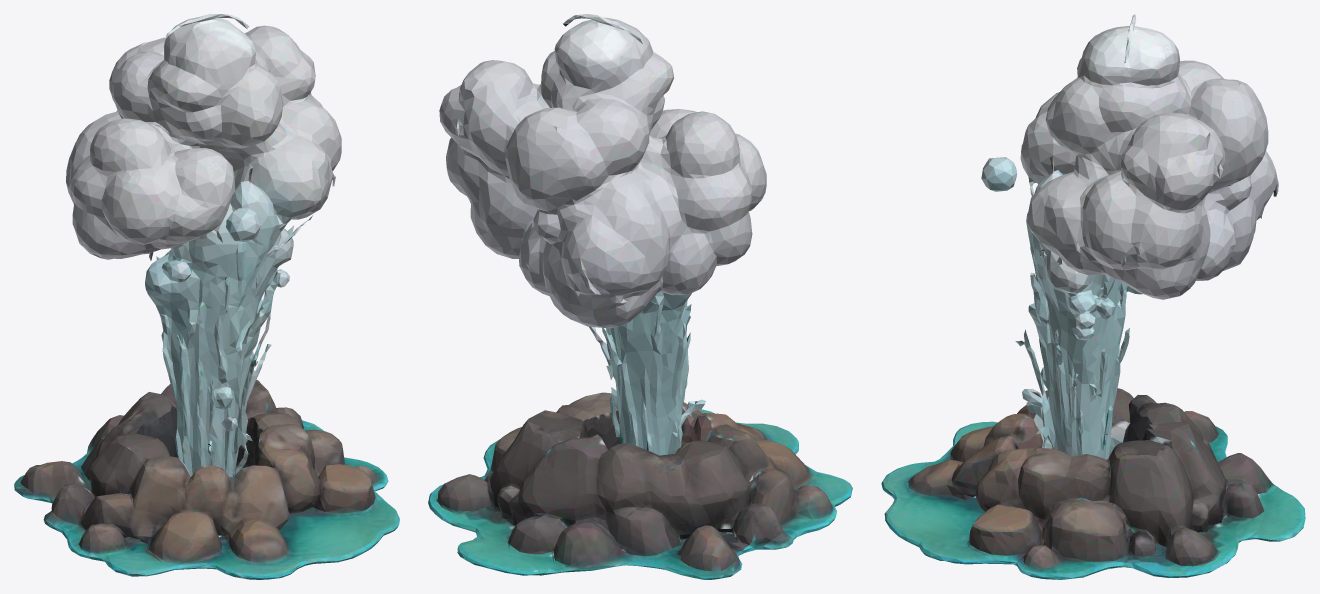
The model's file is geyser.glb.
3 views of the same model, side by side, from view 1: azimuth 30°, elevation 25°; view 2: azimuth 150°, elevation 25°; view 3: azimuth 270°, elevation 25° (orthographic). The views are drawn at different scales.
Parts seen in each view (by area): view 1: tmp0e31puru.ply; view 2: tmp0e31puru.ply; view 3: tmp0e31puru.ply.
Boxes of the visible parts, bbox=[...] form: tmp0e31puru.ply: bbox=[14, 14, 399, 579]; tmp0e31puru.ply: bbox=[428, 14, 852, 579]; tmp0e31puru.ply: bbox=[881, 14, 1305, 579].
Bounding box in the file's own units: 1.3 × 1.99 × 1.45.
1 material, 1 textured.
